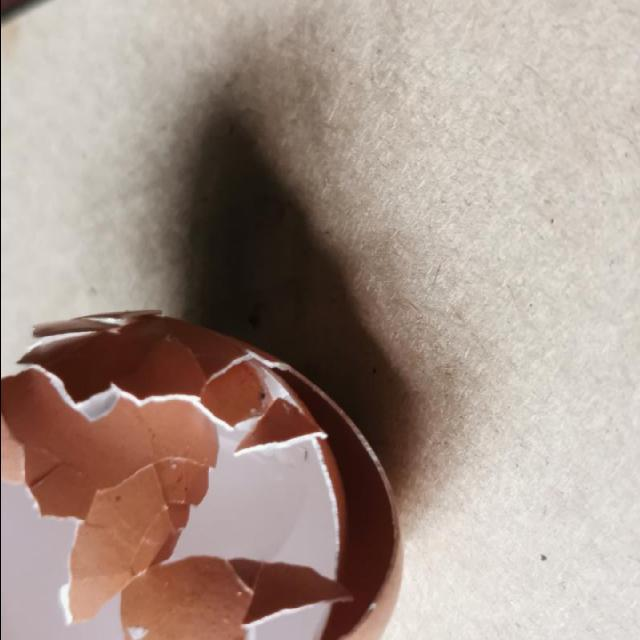egg shell: (0, 311, 409, 639)
